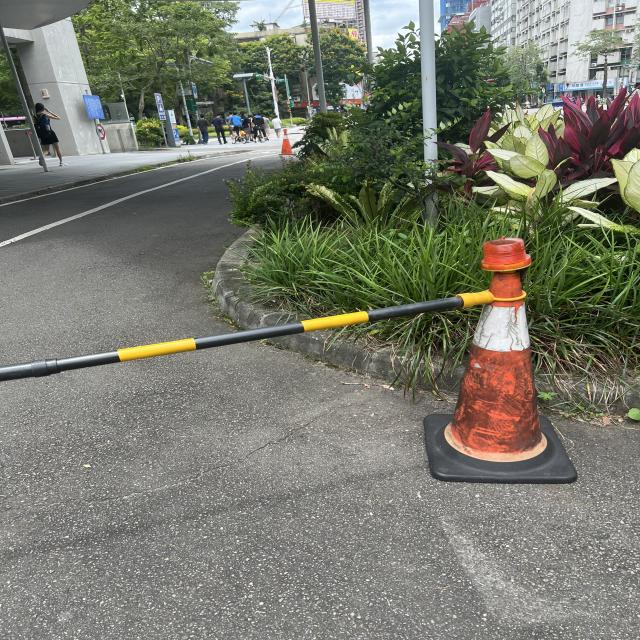cone: (424, 227, 572, 485)
